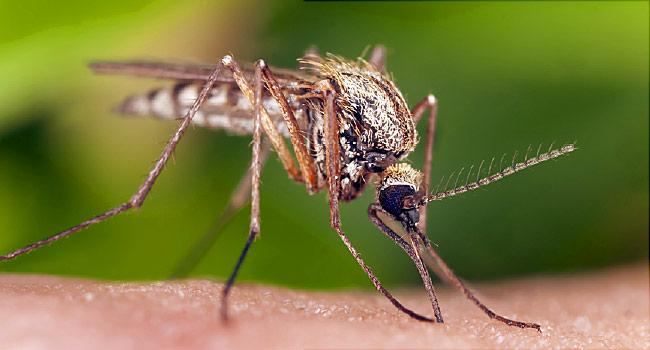insect: (0, 32, 584, 339)
